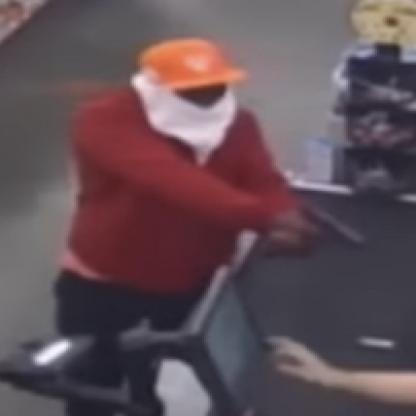criminal: (51, 39, 378, 416)
weapon: (297, 195, 378, 249)
